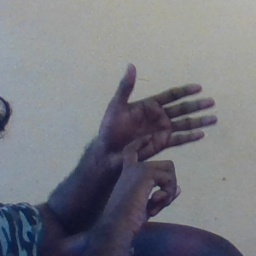R: (76, 56, 222, 216)
